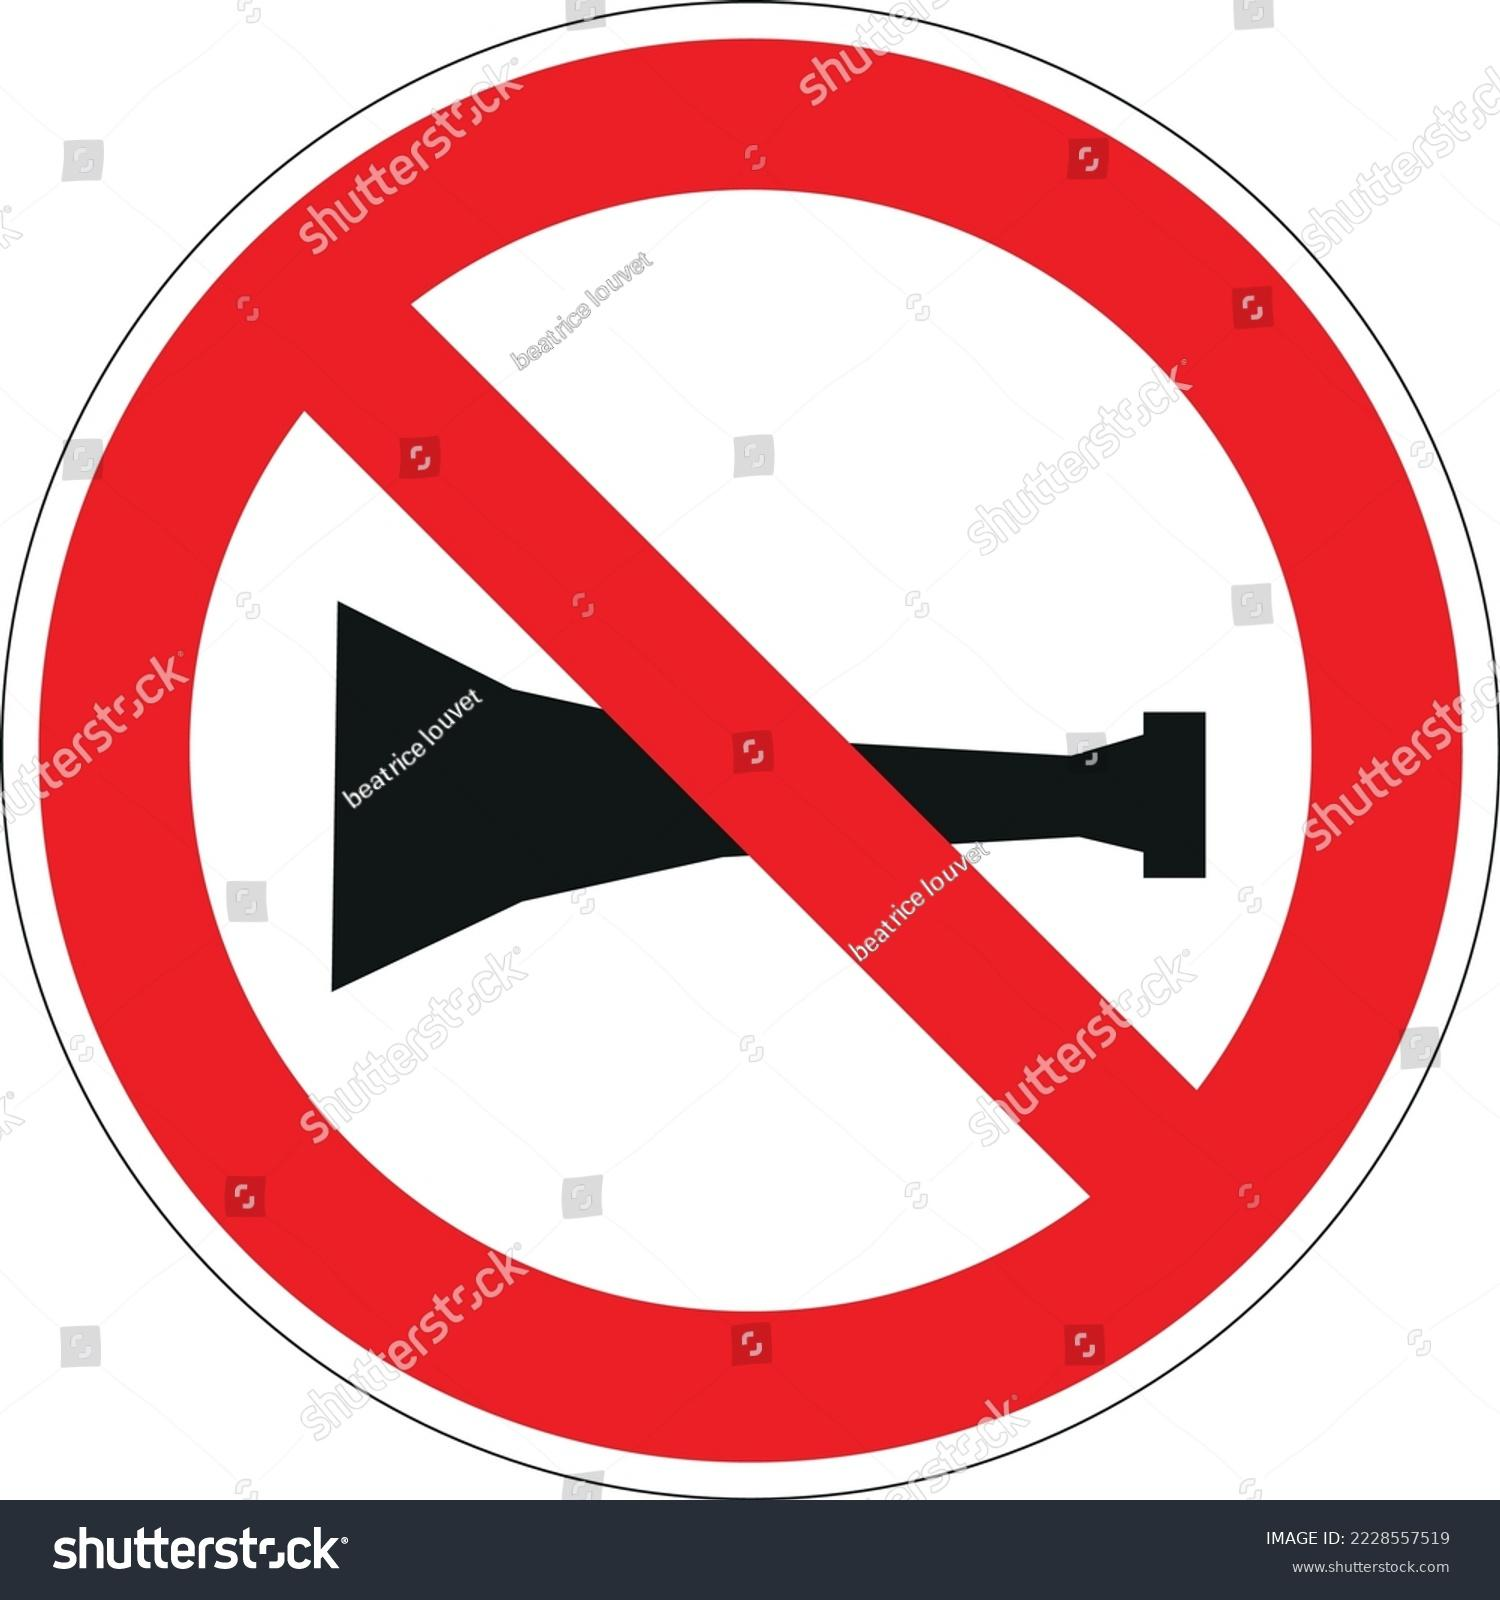Horn Prohibited: (80, 97, 1421, 1424)
